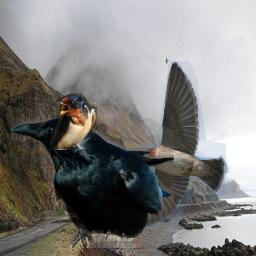Crow: (11, 118, 174, 248)
Swallow: (136, 61, 226, 230), (50, 93, 97, 150)
